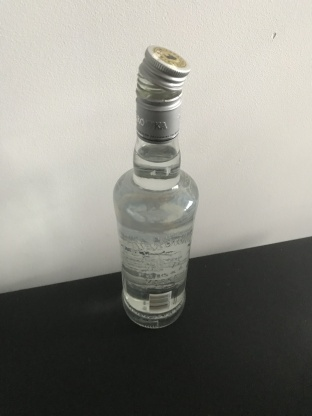nakretka: (134, 42, 191, 145)
